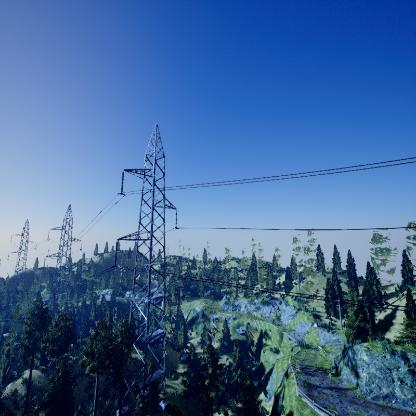tower: (113, 125, 182, 414), (44, 201, 88, 290), (6, 217, 39, 280)
